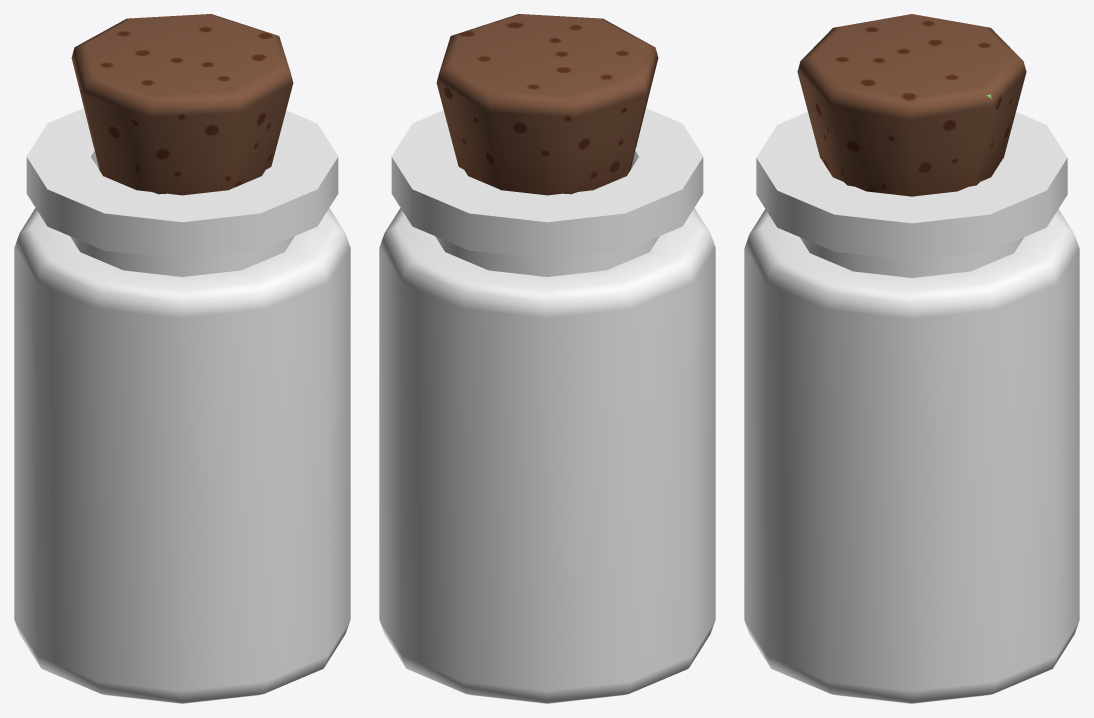
The model's file is PVB export potion green.fbx.
3 renders of one model, left to right at view 1: azimuth 30°, elevation 25°; view 2: azimuth 150°, elevation 25°; view 3: azimuth 270°, elevation 25°, orthographic.
Visible parts, largest first — view 1: body, kurk; view 2: body, kurk; view 3: body, kurk.
Part boxes in pixels (x1,y1,x2,y2): body: (14, 108, 350, 703); kurk: (71, 14, 293, 195); body: (379, 108, 715, 703); kurk: (436, 14, 658, 195); body: (744, 112, 1079, 703); kurk: (797, 14, 1026, 196).
Bounding box in the file's own units: 5.83 × 11.2 × 5.83.
2 materials, 2 textured.
